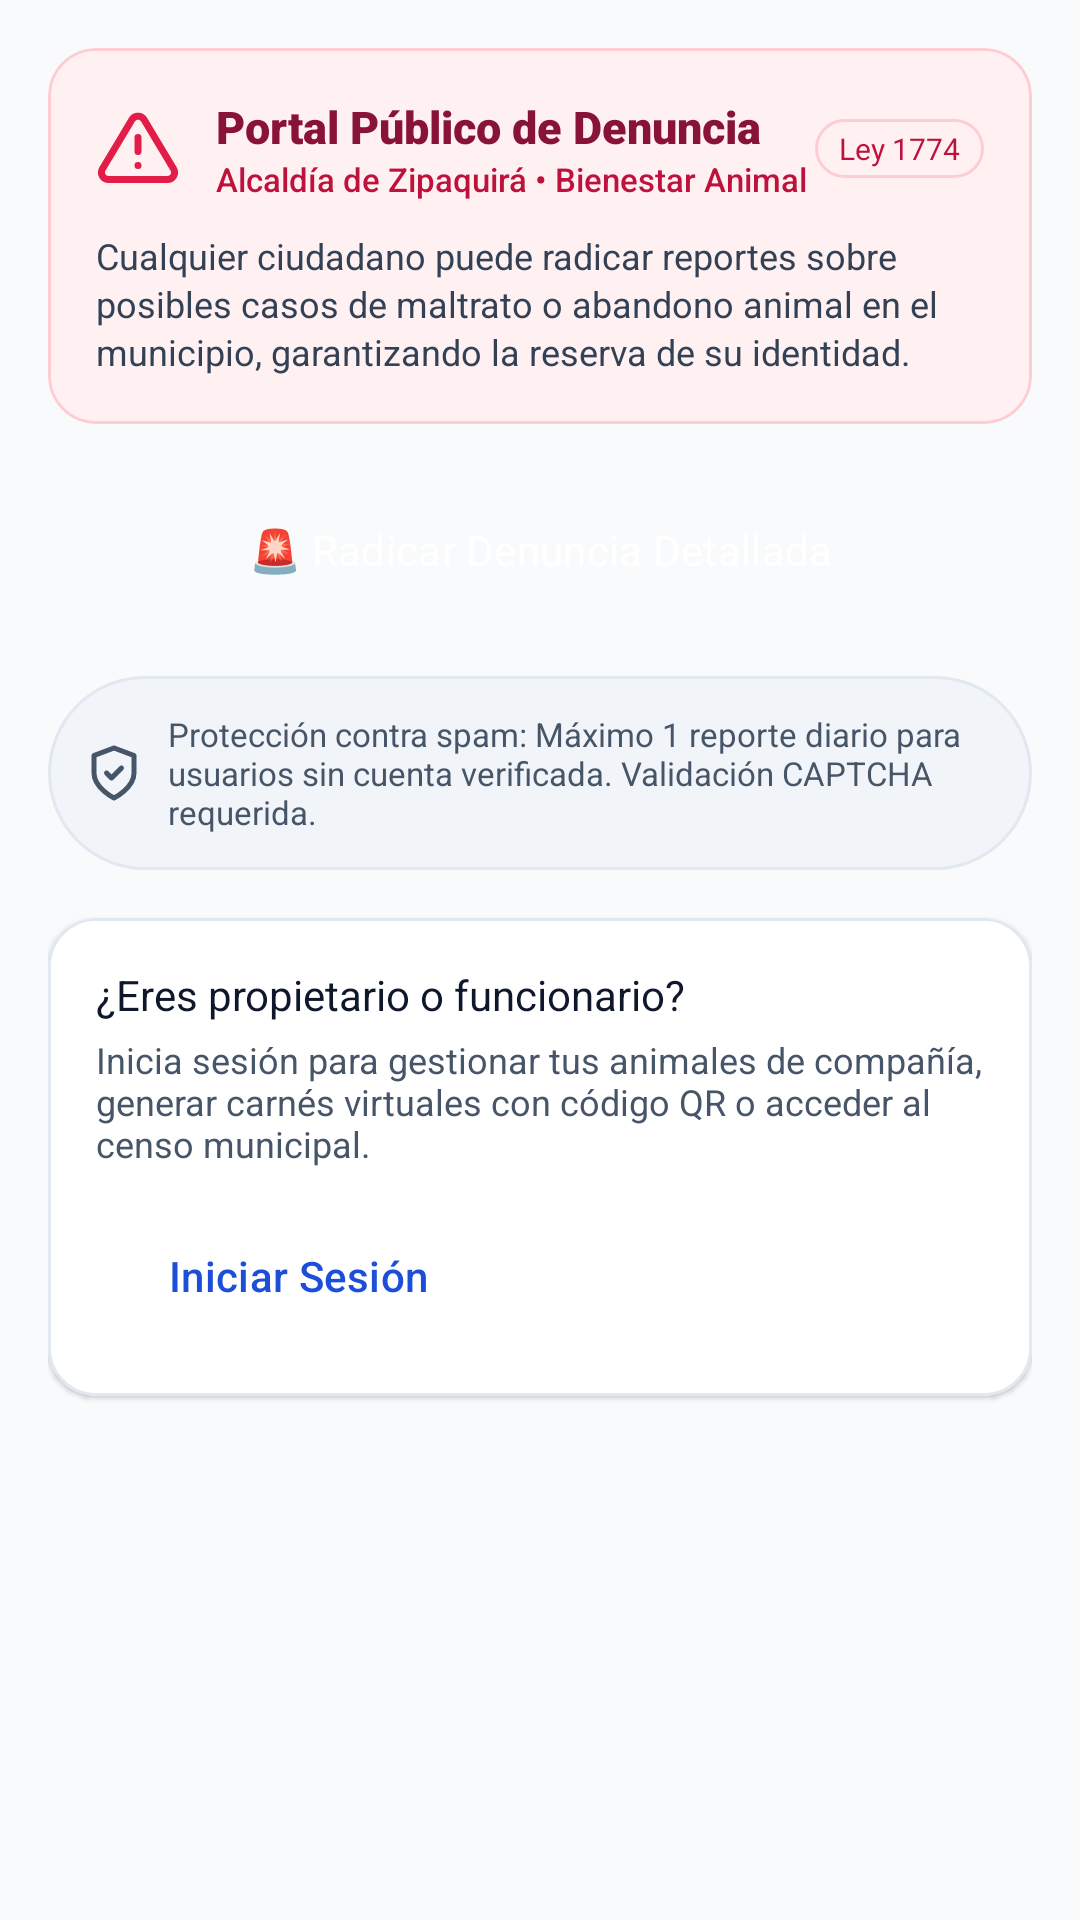

Where to tap for icons on this 1080x1920 app screen, as point (x, y):
Alerta Maltrato: point (138, 147)
Seguridad: point (114, 773)
